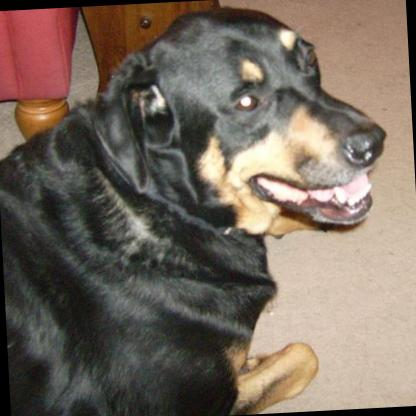Rottweiler: (0, 0, 401, 416)
